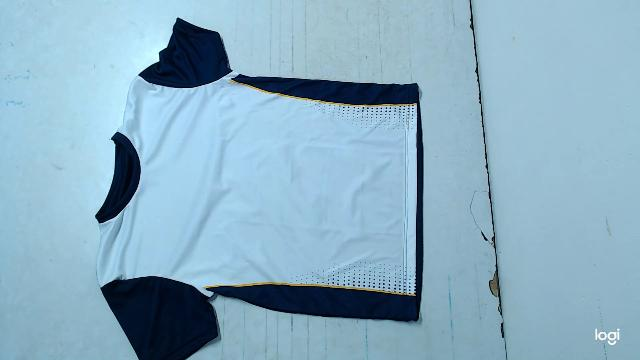new-garment: (96, 18, 423, 359)
